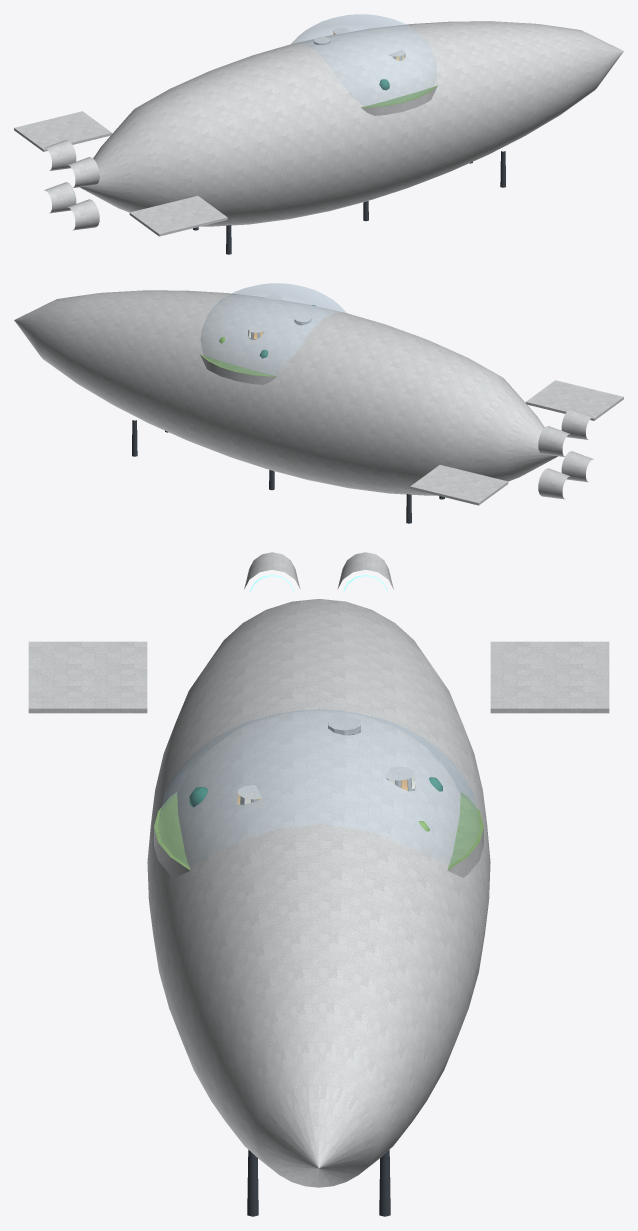
Rendered from generation_ark_village.glb.
The picture shows the model from 3 angles, top to bottom: view 1: azimuth 30°, elevation 25°; view 2: azimuth 150°, elevation 25°; view 3: azimuth 270°, elevation 25°; orthographic projection. The views are drawn at different scales.
Parts seen in each view (by area): view 1: generation_ark_village_LOD0; view 2: generation_ark_village_LOD0; view 3: generation_ark_village_LOD0.
Boxes of the visible parts, <box> form: generation_ark_village_LOD0: <box>14,14,623,254</box>; generation_ark_village_LOD0: <box>14,283,623,523</box>; generation_ark_village_LOD0: <box>28,552,609,1216</box>.
Size of what is drawn, in the model's own units: 99 by 30.1 by 44.
4 materials, 3 textured.
